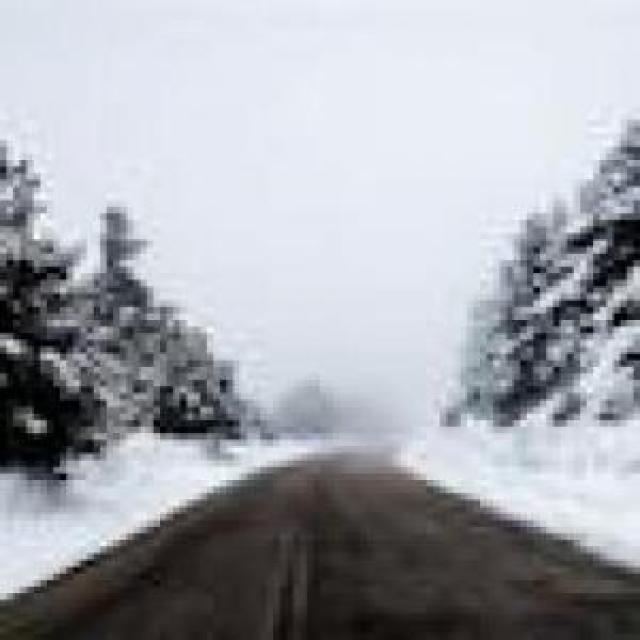ice-road: (4, 467, 635, 637)
